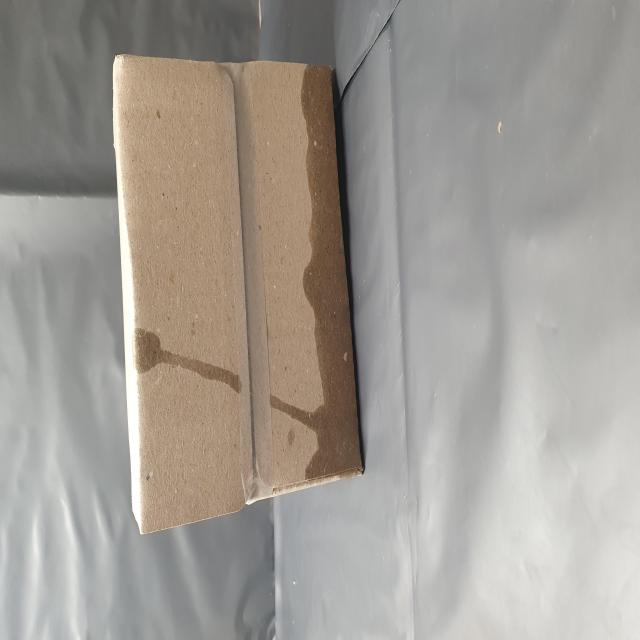wet: (91, 497, 329, 628)
